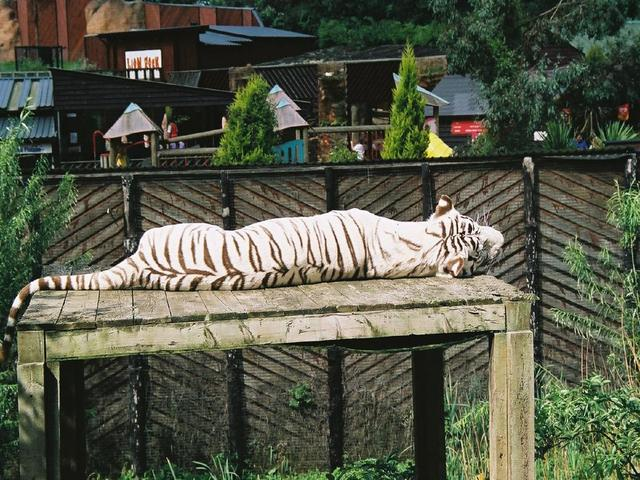tiger: (1, 139, 552, 315)
